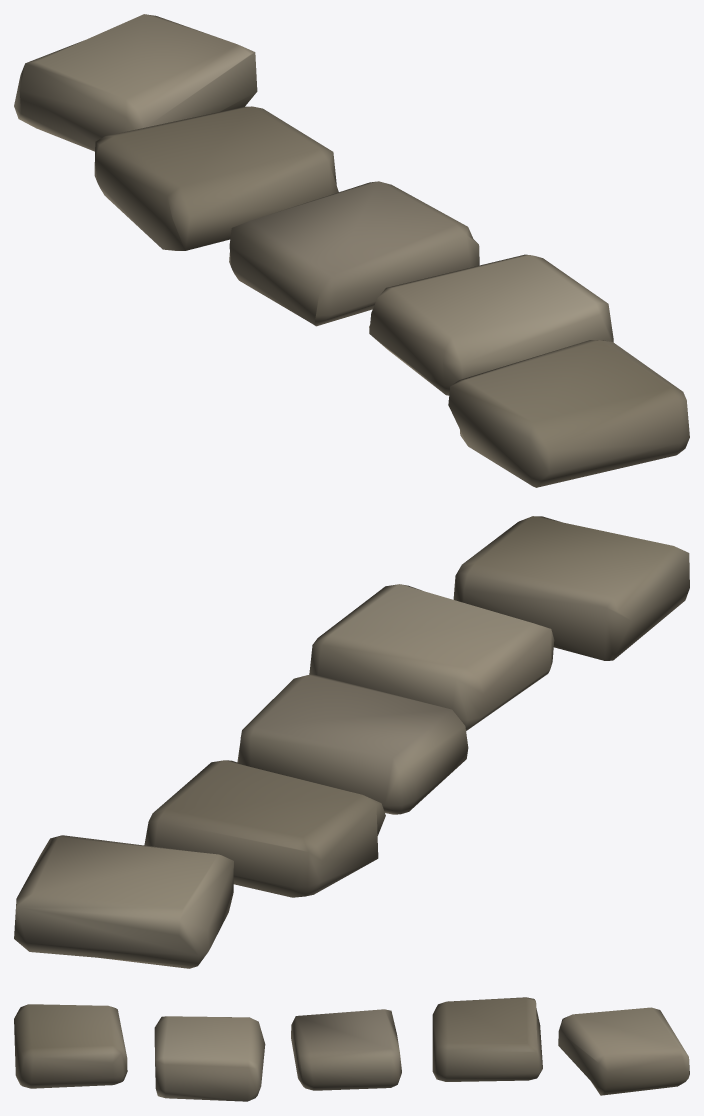
File: water_stepping-stones.glb
3 views of the same model, one above another, from view 1: azimuth 30°, elevation 25°; view 2: azimuth 150°, elevation 25°; view 3: azimuth 270°, elevation 25° (orthographic). The views are drawn at different scales.
Visible parts, largest first — view 1: stone; view 2: stone; view 3: stone.
Part boxes in pixels (x1,y1,x2,y2): stone: [14, 14, 689, 487]; stone: [14, 516, 689, 968]; stone: [14, 997, 689, 1101].
Bounding box in the file's own units: 0.7784 × 0.2271 × 3.16.
